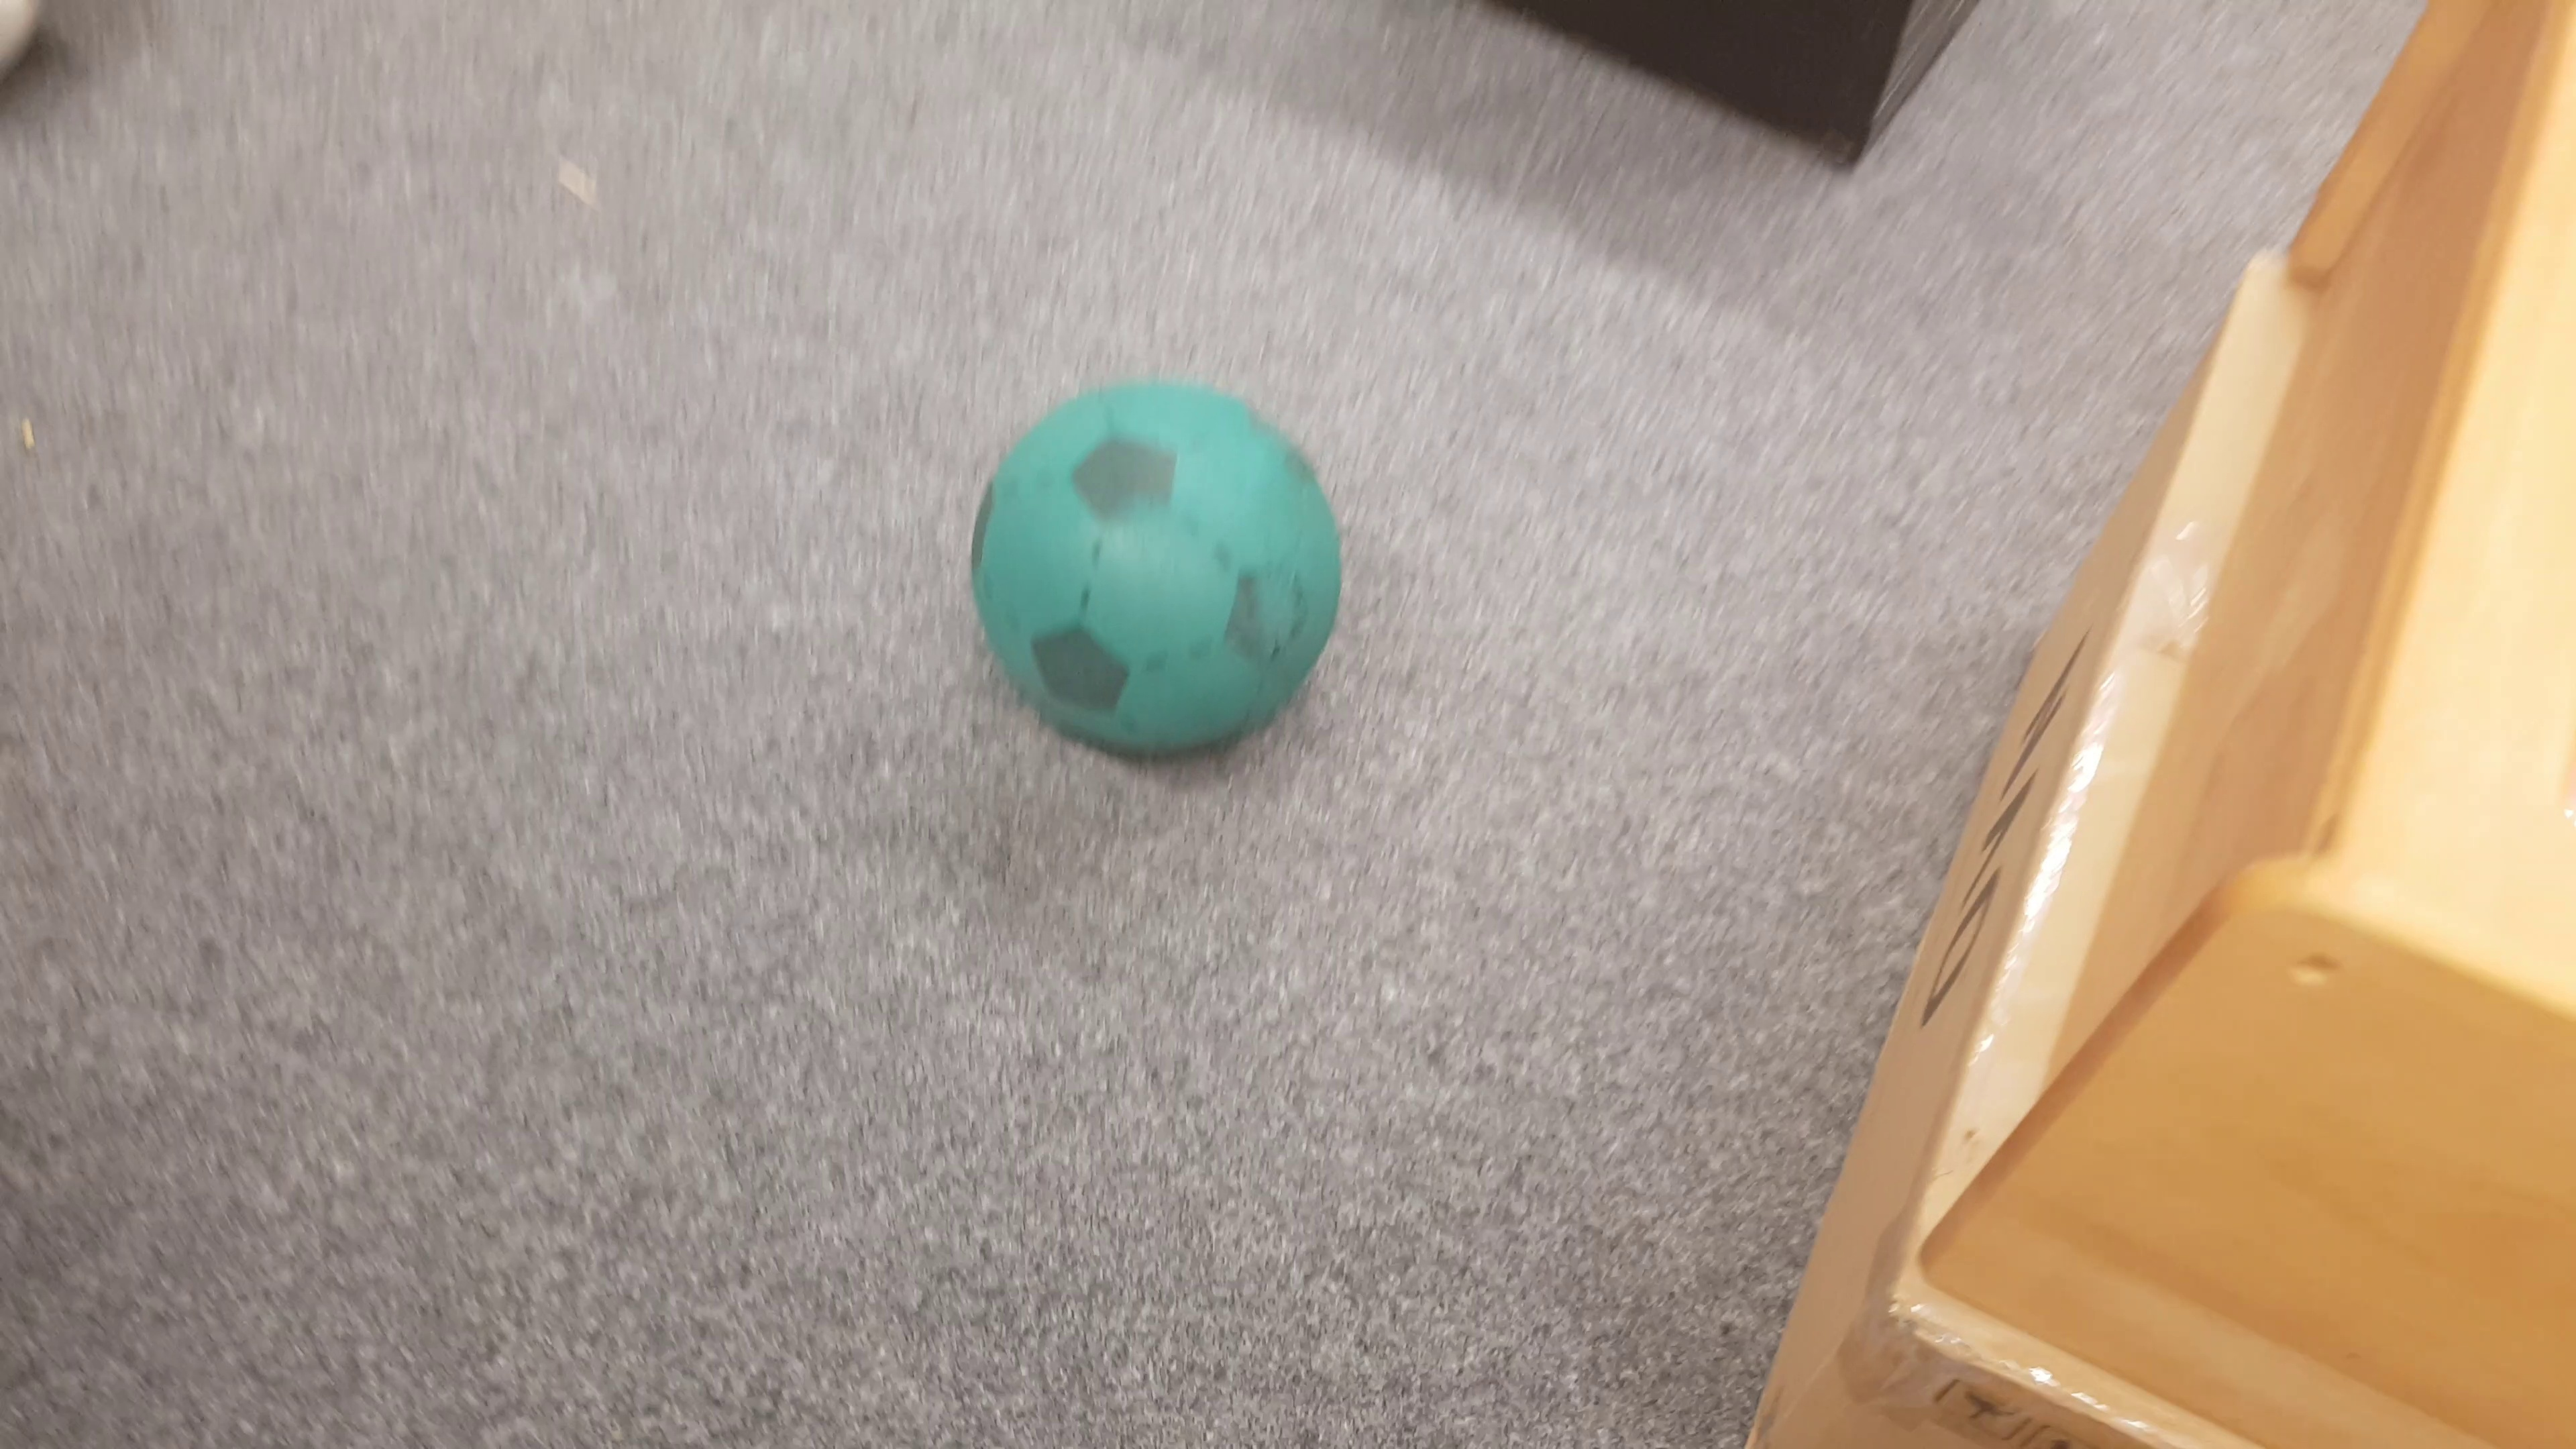kick: (975, 379, 1345, 763)
push: (1495, 2, 1987, 172)
